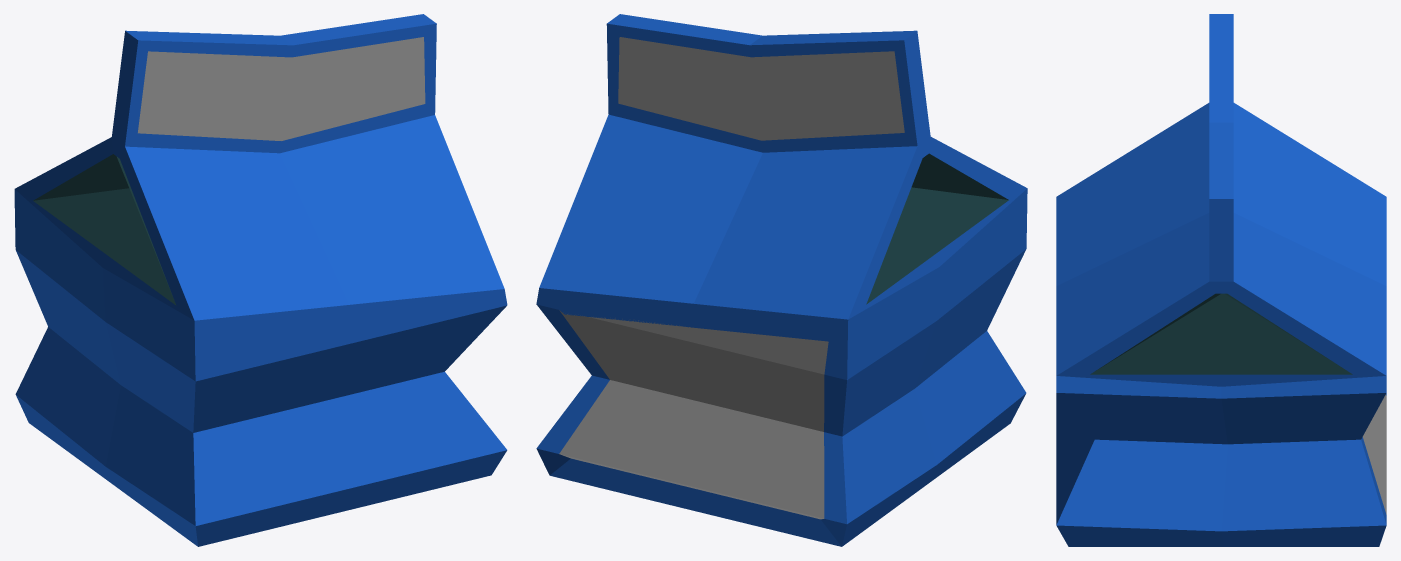
The model's file is CartonSmall.fbx.
3 renders of one model, left to right at view 1: azimuth 30°, elevation 25°; view 2: azimuth 150°, elevation 25°; view 3: azimuth 270°, elevation 25°, orthographic. The views are drawn at different scales.
Parts seen in each view (by area): view 1: CartonSmall; view 2: CartonSmall; view 3: CartonSmall.
Part boxes in pixels (bbox=[...]): CartonSmall: bbox=[14, 14, 507, 546]; CartonSmall: bbox=[536, 14, 1027, 546]; CartonSmall: bbox=[1056, 14, 1386, 546].
Size of the model in its own units: 105 by 100 by 137.
